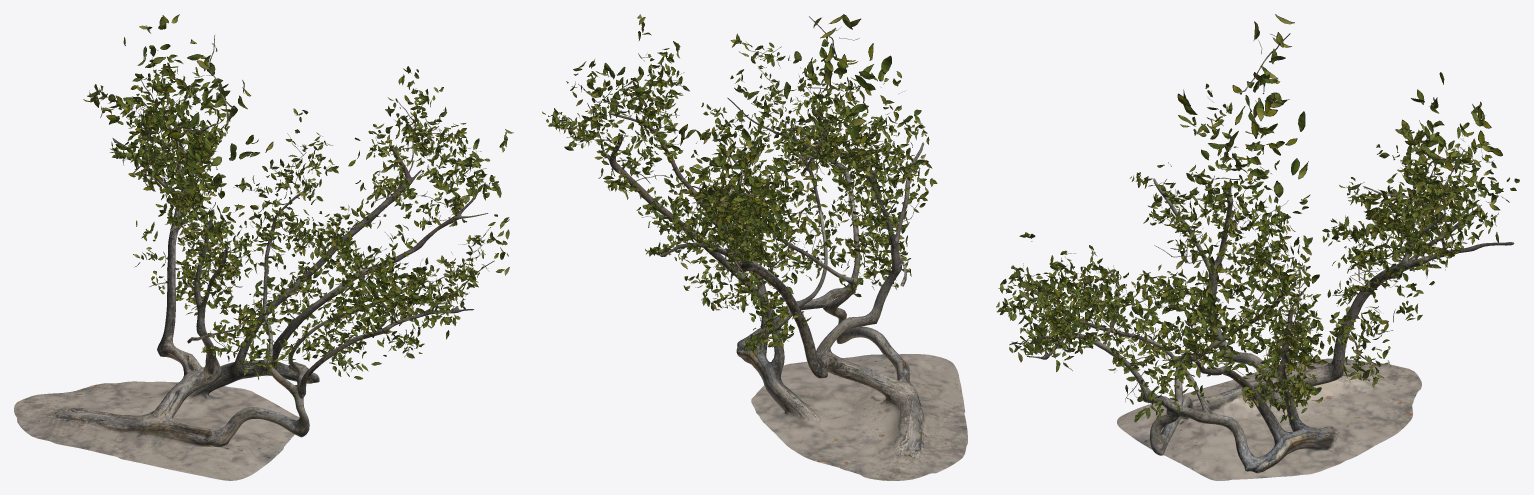
File: island_tree_03_lite.glb
The picture shows the model from 3 angles, left to right: view 1: azimuth 30°, elevation 25°; view 2: azimuth 150°, elevation 25°; view 3: azimuth 270°, elevation 25°; orthographic projection. The views are drawn at different scales.
Visible parts, largest first — view 1: island_tree_03_LOD0_e1dcd4, island_tree_03_LOD0_c37259, island_tree_03_LOD0; view 2: island_tree_03_LOD0_e1dcd4, island_tree_03_LOD0_c37259, island_tree_03_LOD0; view 3: island_tree_03_LOD0_e1dcd4, island_tree_03_LOD0_c37259, island_tree_03_LOD0.
Boxes of the visible parts, x1=… form: island_tree_03_LOD0_e1dcd4: x1=83, y1=14, x2=513, y2=379; island_tree_03_LOD0_c37259: x1=14, y1=120, x2=494, y2=480; island_tree_03_LOD0: x1=94, y1=30, x2=493, y2=374; island_tree_03_LOD0_e1dcd4: x1=542, y1=14, x2=937, y2=355; island_tree_03_LOD0_c37259: x1=601, y1=97, x2=967, y2=480; island_tree_03_LOD0: x1=549, y1=16, x2=924, y2=342; island_tree_03_LOD0_e1dcd4: x1=996, y1=14, x2=1519, y2=424; island_tree_03_LOD0_c37259: x1=1027, y1=178, x2=1514, y2=480; island_tree_03_LOD0: x1=1006, y1=33, x2=1491, y2=407.
Bounding box in the file's own units: 2.98 × 2.57 × 2.89.
Materials: 3 (3 with a texture image).
